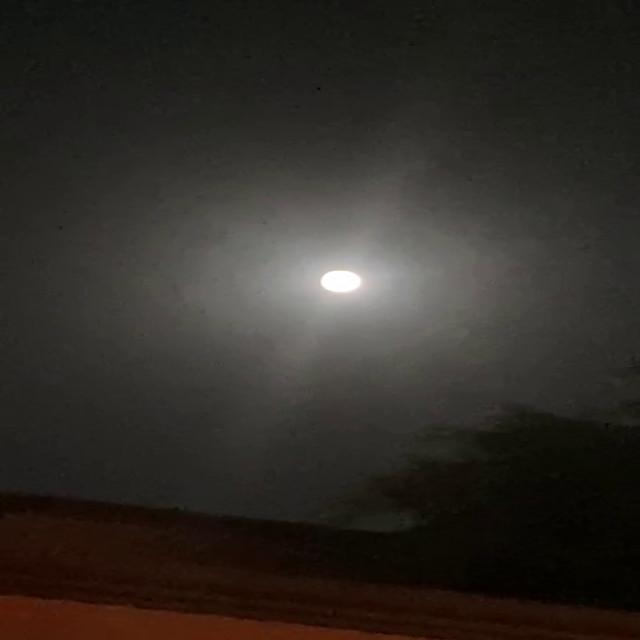moon: (309, 268, 373, 298)
